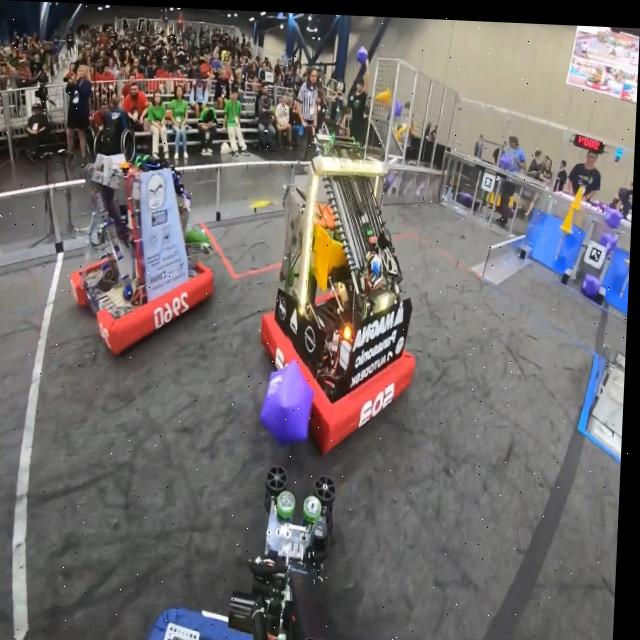robot: (259, 116, 428, 453), (68, 154, 222, 363)
